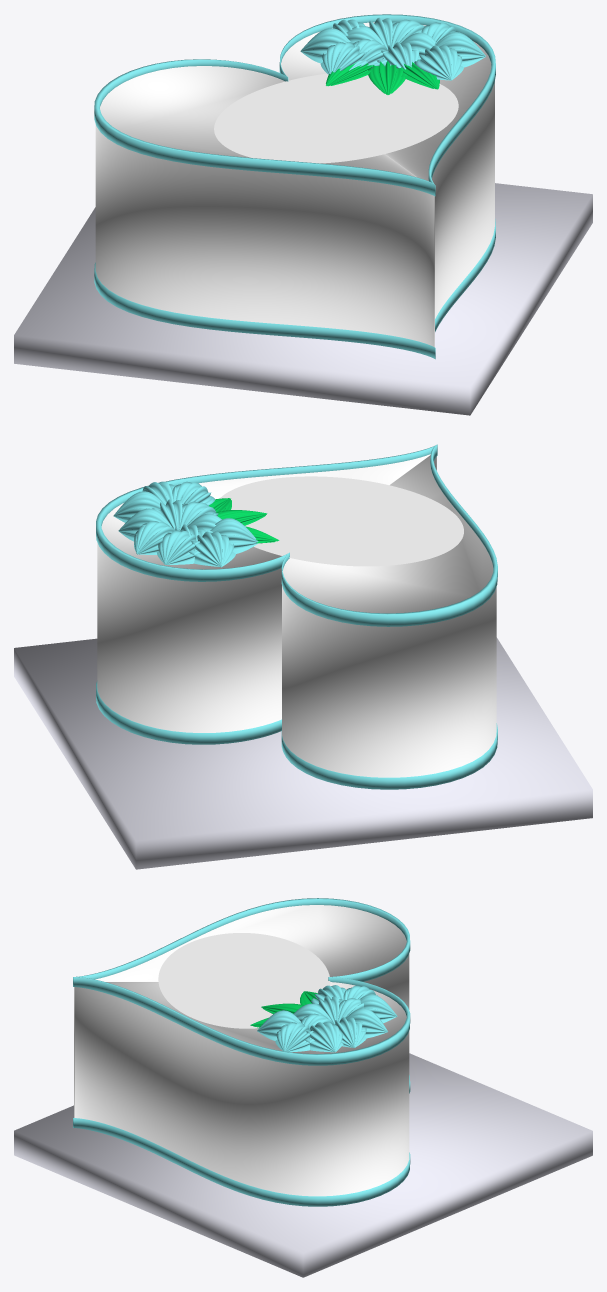
Rendered from heart_vanilla_style2.glb.
The picture shows the model from 3 angles, top to bottom: view 1: azimuth 30°, elevation 25°; view 2: azimuth 150°, elevation 25°; view 3: azimuth 270°, elevation 25°; orthographic projection. The views are drawn at different scales.
Visible parts, largest first — view 1: HeartCake, IcingStand, CakeTopCircle, IcingRing, IcingRing.001, leaf.001, design10, design11, design7, design12, design3, design6 (+1 smaller); view 2: HeartCake, IcingStand, CakeTopCircle, IcingRing, IcingRing.001, design12, design9, leaf.001, design4, design11, design8, design10 (+1 smaller); view 3: HeartCake, IcingStand, CakeTopCircle, IcingRing, IcingRing.001, design7, design8, design5, design4, design10, design9, leaf.001.
Boxes of the visible parts, <box> form: HeartCake: <box>95,22,494,347</box>; IcingStand: <box>14,183,592,415</box>; CakeTopCircle: <box>214,73,458,163</box>; IcingRing: <box>94,14,495,196</box>; IcingRing.001: <box>94,219,495,359</box>; leaf.001: <box>326,60,439,94</box>; design10: <box>414,45,463,80</box>; design11: <box>320,42,368,74</box>; design7: <box>435,32,485,67</box>; design12: <box>300,28,350,63</box>; design3: <box>377,42,420,69</box>; design6: <box>353,39,388,68</box>; HeartCake: <box>97,454,496,777</box>; IcingStand: <box>14,637,592,869</box>; CakeTopCircle: <box>220,476,463,566</box>; IcingRing: <box>96,444,497,626</box>; IcingRing.001: <box>96,680,497,789</box>; design12: <box>189,531,235,567</box>; design9: <box>157,530,200,564</box>; leaf.001: <box>209,498,279,546</box>; design4: <box>134,521,174,554</box>; design11: <box>210,518,258,553</box>; design8: <box>113,491,165,522</box>; design10: <box>172,481,214,505</box>; HeartCake: <box>74,905,409,1196</box>; IcingStand: <box>14,1053,592,1277</box>; CakeTopCircle: <box>158,933,330,1028</box>; IcingRing: <box>73,898,410,1065</box>; IcingRing.001: <box>73,1075,410,1206</box>; design7: <box>275,1022,314,1052</box>; design8: <box>305,1022,343,1052</box>; design5: <box>335,1017,366,1047</box>; design4: <box>345,1008,387,1038</box>; design10: <box>257,1010,300,1040</box>; design9: <box>358,994,397,1023</box>; leaf.001: <box>250,991,318,1028</box>.
Size of the model in its own units: 4.24 by 1.58 by 4.24.
